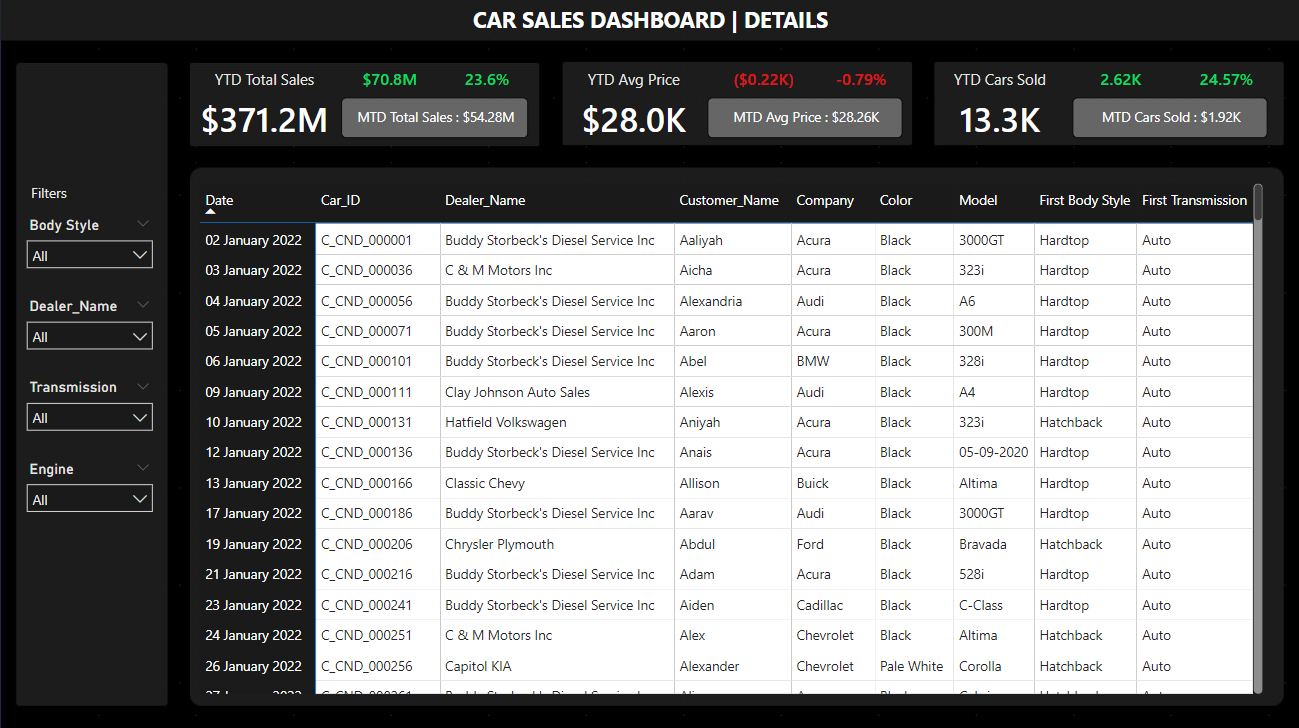

Layout of this report page (visuals, bound fields, positions):
{"tool":"powerbi","page":{"name":"Details","canvas":[1280,720],"ordinal":1},"visuals":[{"type":"card","title":"YTD Total Sales","fields":{"Values":["measures_table.YTD Total Sales"]},"box":[184.6,67.7,151.4,80],"z":0},{"type":"card","fields":{"Values":["measures_table.YTY Sales Diff"]},"box":[336,64,96,32],"z":1000},{"type":"card","fields":{"Values":["measures_table.YOY Sales Growth"]},"box":[432,64,96,32],"z":2000},{"type":"card","fields":{"Values":["measures_table.MTD Total Sales"]},"box":[336,96,184,40],"z":3000},{"type":"card","title":"YTD Avg Price","fields":{"Values":["measures_table.YTD AVG Price"]},"box":[560,67.7,128,80],"z":4000},{"type":"card","fields":{"Values":["measures_table.AVG Price Diff"]},"box":[704,64,96,32],"z":5000},{"type":"card","fields":{"Values":["measures_table.YOY Avg Price Growth"]},"box":[800,64,96,32],"z":6000},{"type":"card","fields":{"Values":["measures_table.MTD AVG Price"]},"box":[696,96,192,40],"z":7000},{"type":"card","title":"YTD Cars Sold","fields":{"Values":["measures_table.YTD Car Sales"]},"box":[920.6,67.7,128,80],"z":8000},{"type":"card","fields":{"Values":["measures_table.Cars Sold Diff"]},"box":[1056,64,96,32],"z":9000},{"type":"card","fields":{"Values":["measures_table.YOY Cras Sold Growth"]},"box":[1152,64,112,32],"z":10000},{"type":"card","fields":{"Values":["measures_table.MTD Cars Sold"]},"box":[1056,96,192,40],"z":11000},{"type":"textbox","box":[440,0,400,48],"z":12000},{"type":"slicer","fields":{"Values":["car_data.Body Style"]},"box":[16,208,144,80],"z":13000},{"type":"slicer","fields":{"Values":["car_data.Dealer_Name"]},"box":[16,288,144,80],"z":14000},{"type":"slicer","fields":{"Values":["car_data.Transmission"]},"box":[16,368,144,80],"z":15000},{"type":"slicer","fields":{"Values":["car_data.Engine"]},"box":[16,448,144,80],"z":16000},{"type":"textbox","box":[16,176,64,32],"z":17000},{"type":"pivotTable","fields":{"Values":["Min(car_data.Car_id)","Min(car_data.Dealer_Name)","Min(car_data.Customer Name)","Min(car_data.Company)","Min(car_data.Color)","Min(car_data.Model)","Min(car_data.Body Style)","Min(car_data.Transmission)"],"Rows":["car_data.Date"]},"box":[192,176,1056,512],"z":18000}]}

Visuals, with their boxes in screenshot pixels (x1, y1, x2, y2), scaled from the page's 1280x720 canvas onto the 1299x728 screenshot:
"YTD Total Sales" card: detection(187, 68, 341, 149)
card - measures_table.YTY Sales Diff: detection(341, 65, 438, 97)
card - measures_table.YOY Sales Growth: detection(438, 65, 536, 97)
card - measures_table.MTD Total Sales: detection(341, 97, 528, 138)
"YTD Avg Price" card: detection(568, 68, 698, 149)
card - measures_table.AVG Price Diff: detection(714, 65, 812, 97)
card - measures_table.YOY Avg Price Growth: detection(812, 65, 909, 97)
card - measures_table.MTD AVG Price: detection(706, 97, 901, 138)
"YTD Cars Sold" card: detection(934, 68, 1064, 149)
card - measures_table.Cars Sold Diff: detection(1072, 65, 1169, 97)
card - measures_table.YOY Cras Sold Growth: detection(1169, 65, 1283, 97)
card - measures_table.MTD Cars Sold: detection(1072, 97, 1267, 138)
textbox: detection(447, 0, 852, 49)
slicer - car_data.Body Style: detection(16, 210, 162, 291)
slicer - car_data.Dealer_Name: detection(16, 291, 162, 372)
slicer - car_data.Transmission: detection(16, 372, 162, 453)
slicer - car_data.Engine: detection(16, 453, 162, 534)
textbox: detection(16, 178, 81, 210)
pivotTable - Min(car_data.Car_id) x Min(car_data.Dealer_Name): detection(195, 178, 1267, 696)
